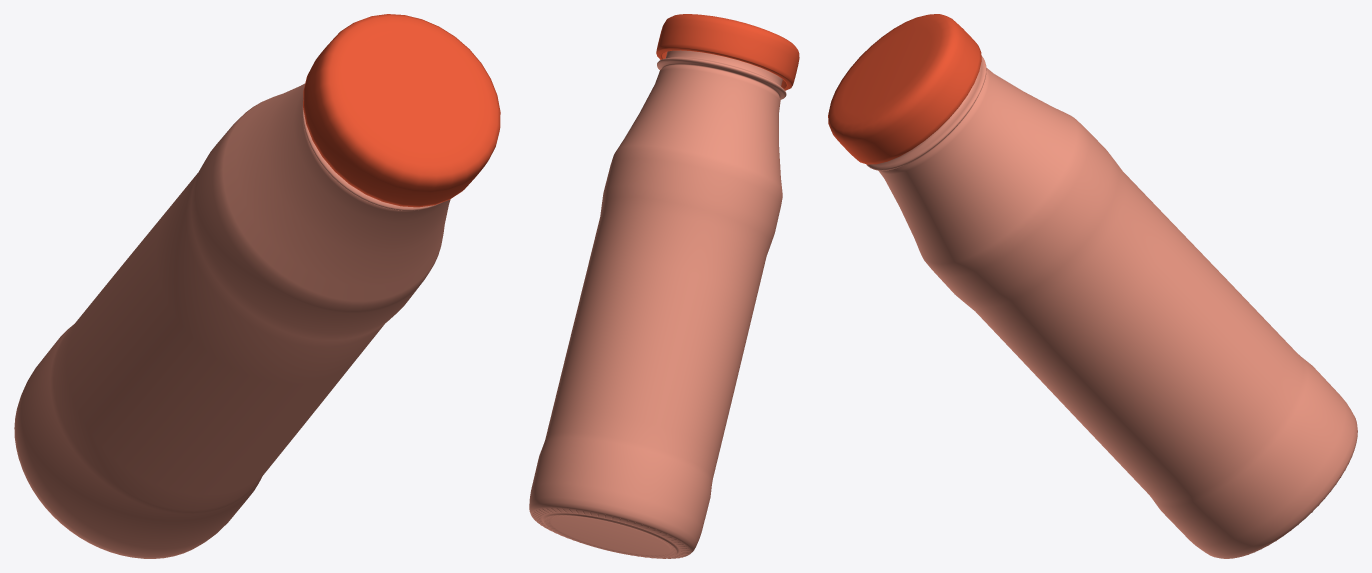
File: PlasticB2.glb
3 renders of one model, left to right at view 1: azimuth 30°, elevation 25°; view 2: azimuth 150°, elevation 25°; view 3: azimuth 270°, elevation 25°, orthographic. The views are drawn at different scales.
Visible parts, largest first — view 1: Circle.023, Circle.022; view 2: Circle.023, Circle.022; view 3: Circle.023, Circle.022.
Part boxes in pixels (x1=…): Circle.023: x1=14, y1=83, x2=450, y2=558; Circle.022: x1=303, y1=14, x2=500, y2=207; Circle.023: x1=529, y1=50, x2=786, y2=558; Circle.022: x1=656, y1=14, x2=799, y2=90; Circle.023: x1=866, y1=56, x2=1357, y2=558; Circle.022: x1=828, y1=14, x2=981, y2=164.
Size of the model in its own units: 1.66 by 3.99 by 3.56.
